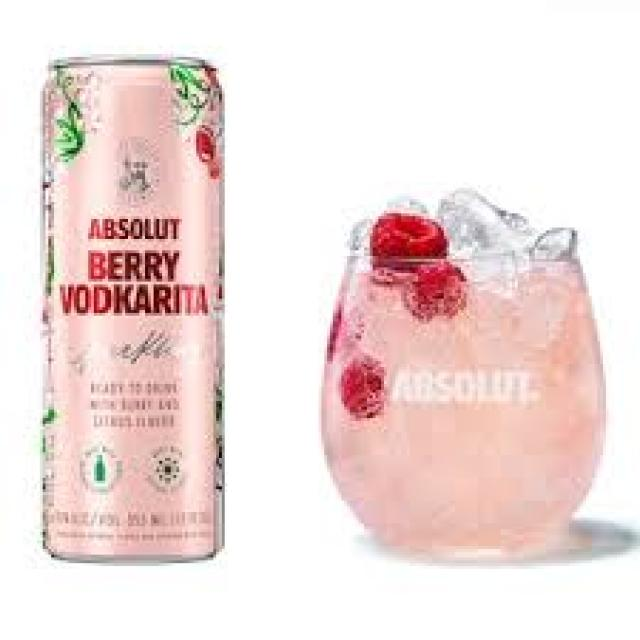Cans: (31, 40, 236, 572)
